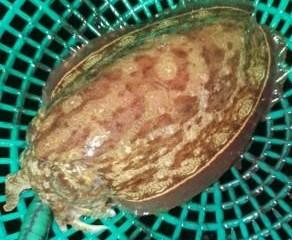Cephalopod: (4, 0, 286, 233)
